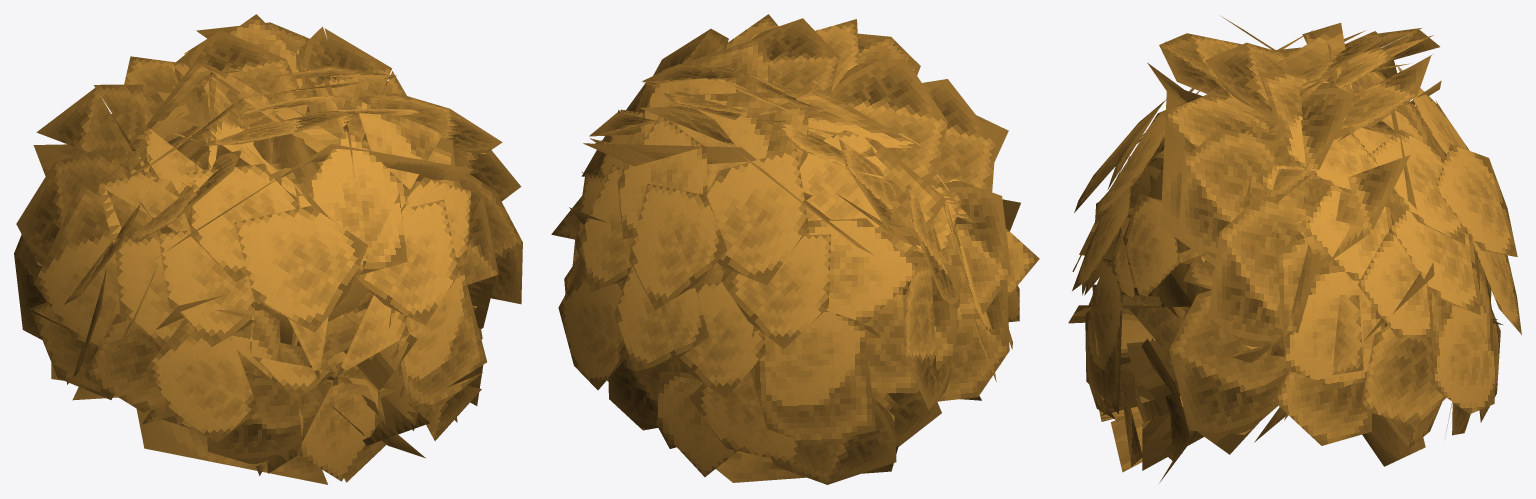
The model's file is bush-hydrangea-autumn.glb.
The picture shows the model from 3 angles, left to right: view 1: azimuth 30°, elevation 25°; view 2: azimuth 150°, elevation 25°; view 3: azimuth 270°, elevation 25°; orthographic projection. The views are drawn at different scales.
Visible parts, largest first — view 1: bush-hydrangea-autumn; view 2: bush-hydrangea-autumn; view 3: bush-hydrangea-autumn.
Part boxes in pixels (x1=…): bush-hydrangea-autumn: x1=14, y1=14, x2=522, y2=484; bush-hydrangea-autumn: x1=551, y1=14, x2=1039, y2=484; bush-hydrangea-autumn: x1=1068, y1=16, x2=1521, y2=482.
Bounding box in the file's own units: 1.14 × 0.9545 × 0.954.
1 material, 1 textured.
